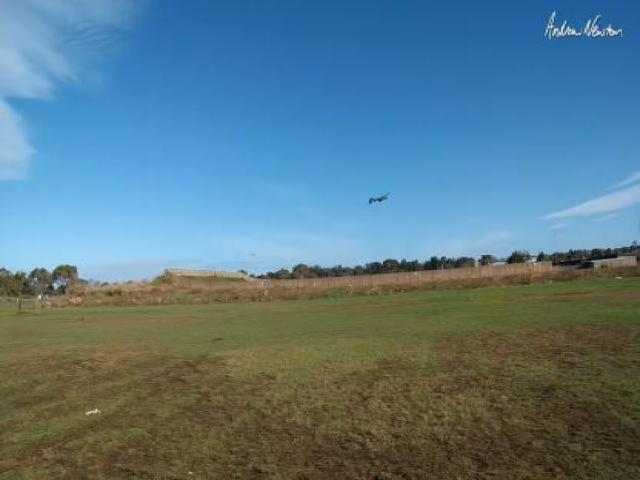uav: (366, 187, 394, 208)
